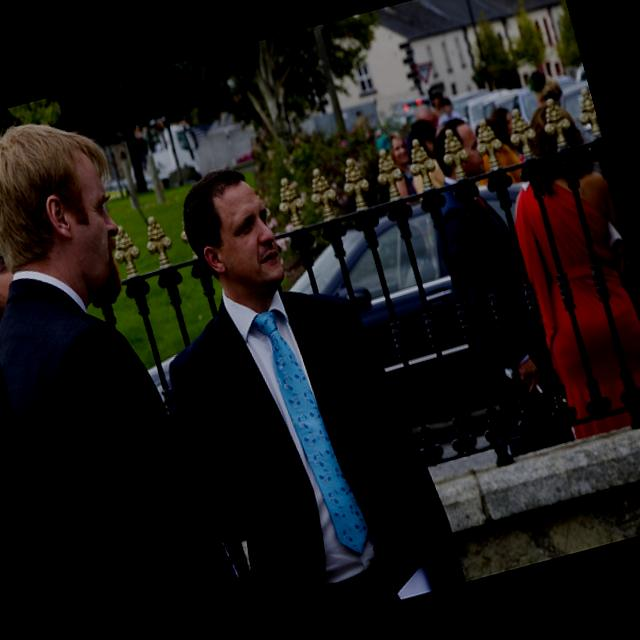Vehicle: (274, 195, 494, 452), (552, 80, 602, 146), (450, 85, 498, 124)
